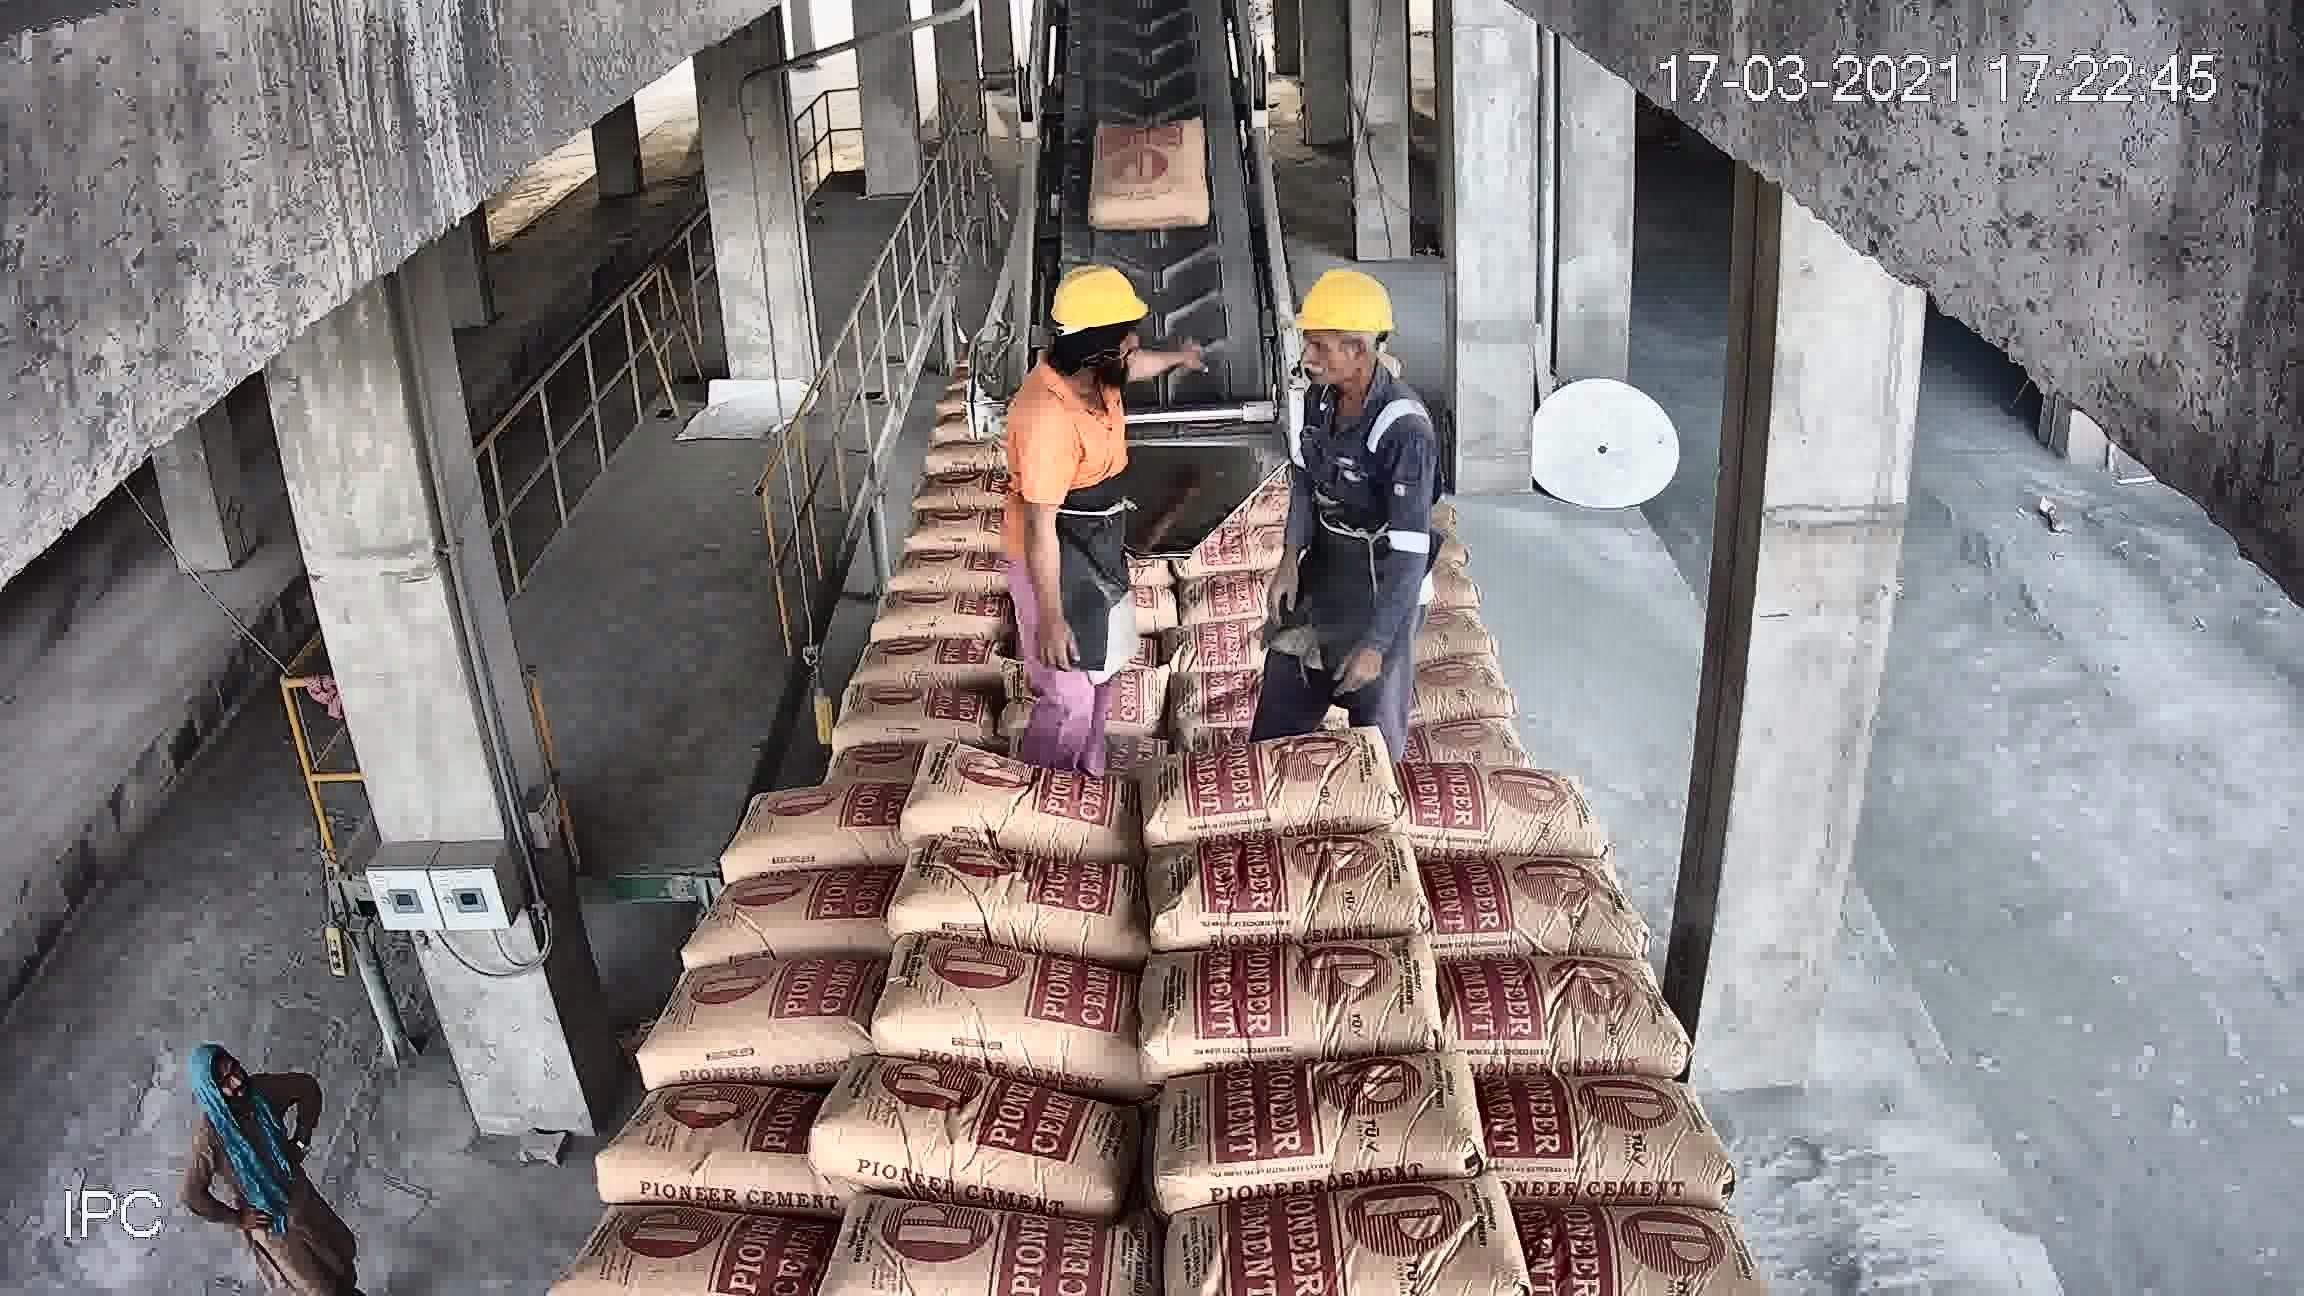bag: (848, 527, 1048, 623), (1090, 348, 1214, 484), (1100, 21, 1190, 127)
bag_h: (1143, 1065, 1492, 1196), (1131, 937, 1461, 1068), (1184, 1173, 1513, 1296), (802, 1078, 1146, 1184), (1465, 1071, 1722, 1201), (635, 962, 899, 1082), (1157, 828, 1415, 945), (1130, 726, 1407, 832), (829, 1211, 1169, 1296), (592, 1076, 813, 1206), (1405, 851, 1643, 972), (905, 956, 1144, 1074), (1165, 548, 1370, 676), (1138, 658, 1362, 775), (1473, 940, 1662, 1078), (918, 842, 1135, 959), (1489, 1207, 1753, 1296), (688, 864, 915, 964), (1404, 755, 1595, 867), (897, 772, 1157, 855), (964, 595, 1166, 690), (744, 764, 902, 881), (560, 1211, 824, 1279), (788, 617, 951, 718), (752, 703, 923, 798), (918, 685, 1146, 755), (1385, 604, 1541, 696), (1400, 685, 1575, 764), (1052, 533, 1174, 592), (1343, 517, 1464, 576), (1381, 548, 1478, 620), (1342, 475, 1451, 536), (1055, 494, 1184, 543), (1337, 411, 1434, 472), (1057, 565, 1204, 600), (1324, 348, 1399, 388), (1324, 383, 1404, 419)
belt: (1036, 24, 1280, 462)
